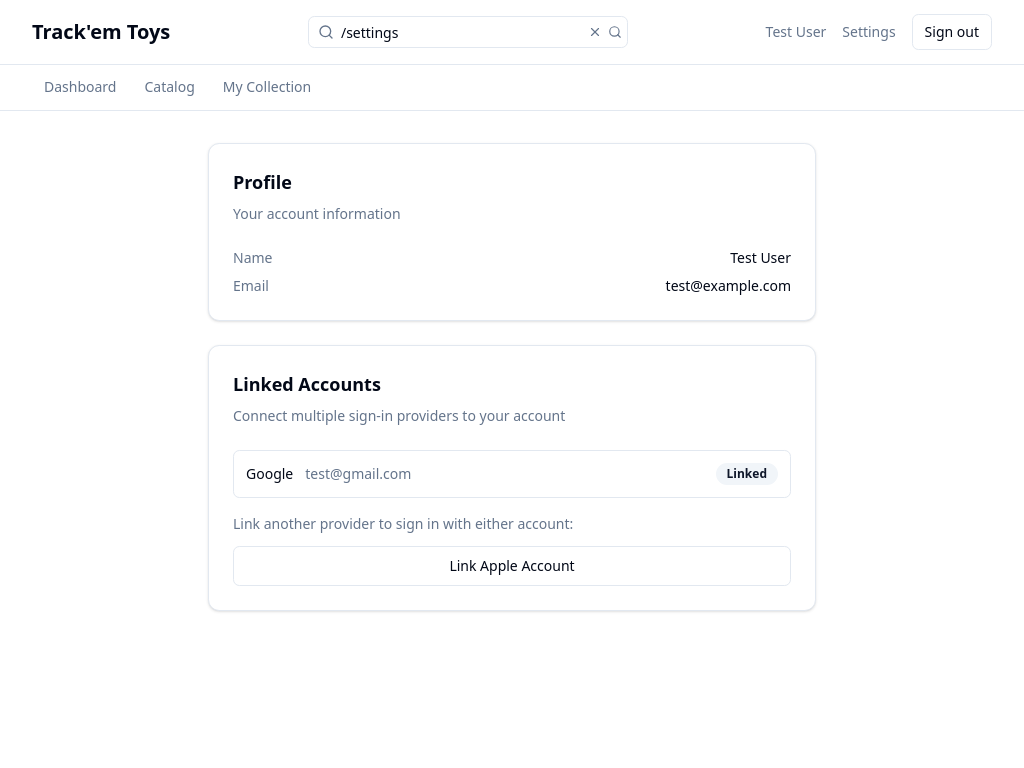
it: SettingsPage › shows 409 error message from API when linking fails with conflict
The width and height of the screenshot is (1024, 768).
Click the button "Link Apple Account" at (512, 566), box [233,546,791,586]
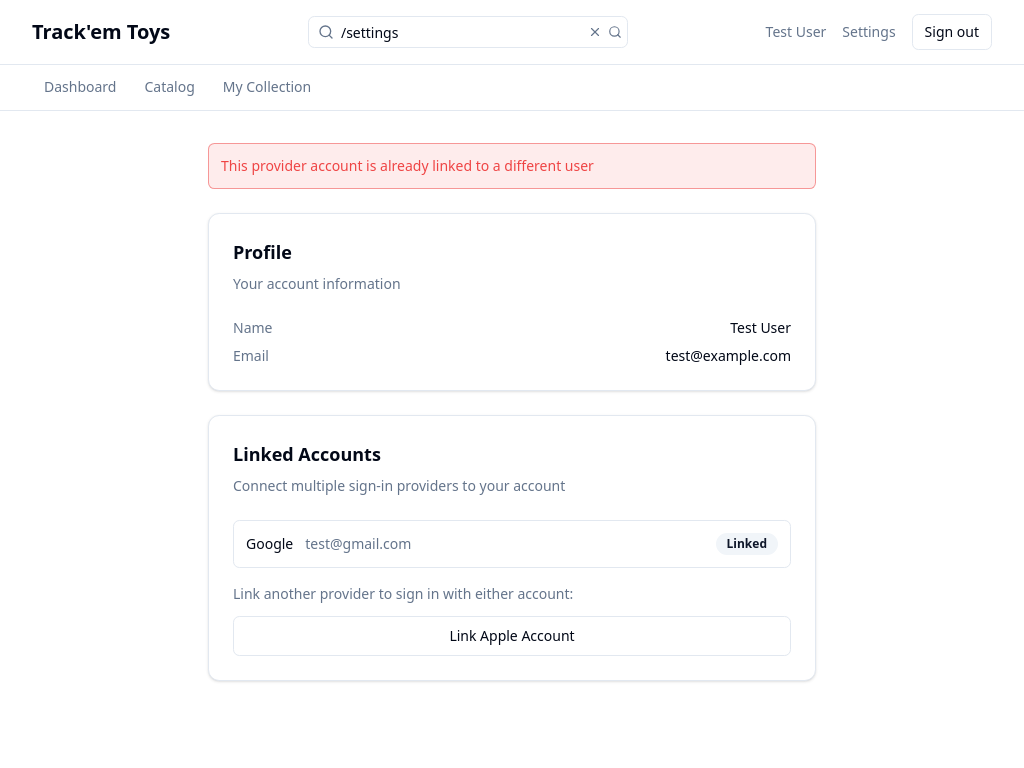
Now the message reads "This provider account is already linked to a different user", box [221,156,594,175]
